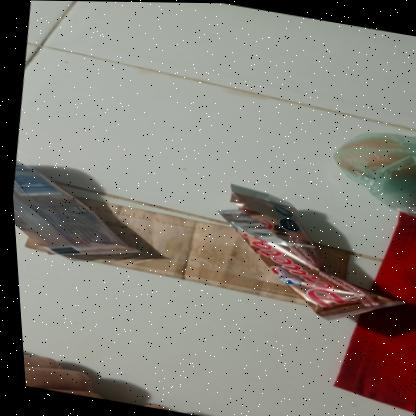five-back-vef: (15, 186, 349, 311)
